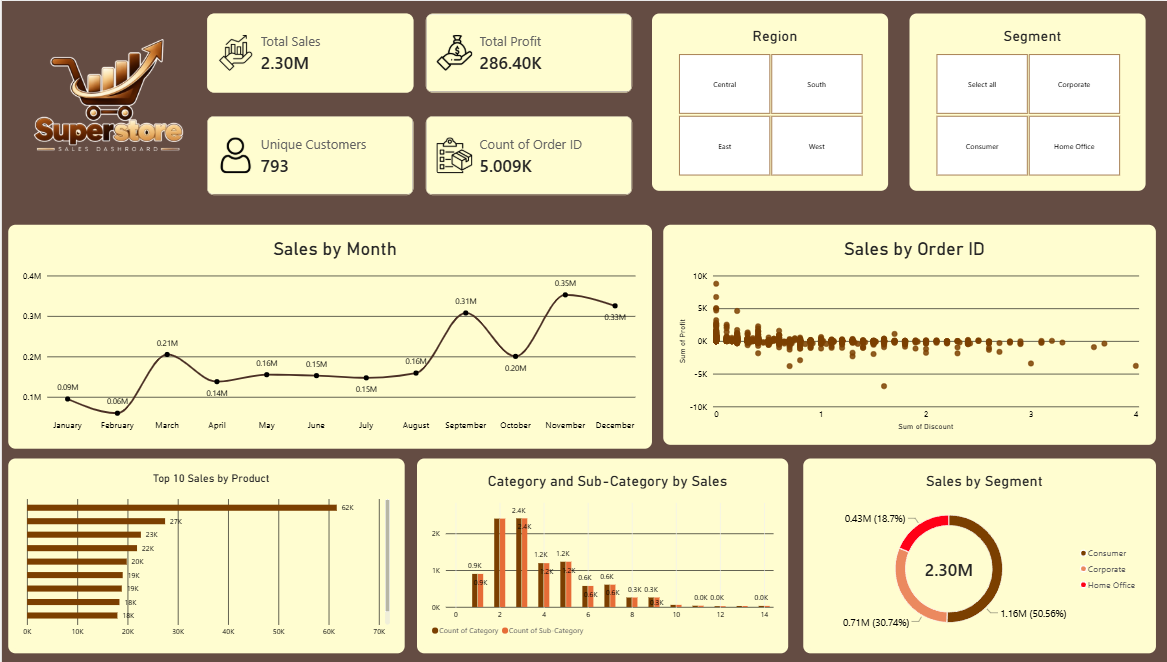

What the dashboard file says about the page in this screenshot:
{"tool":"powerbi","page":{"name":"Page 1","canvas":[1920,1100],"ordinal":0},"visuals":[{"type":"cardVisual","fields":{"Data":["Sum(superstore_sales_clean.Sales)"]},"box":[337.6,20.6,340,130],"z":0},{"type":"cardVisual","fields":{"Data":["Count(superstore_sales_clean.Customer ID)"]},"box":[337.6,189.4,340,130],"z":1},{"type":"cardVisual","fields":{"Data":["Count(superstore_sales_clean.Order ID)"]},"box":[697.8,189.4,340,130],"z":2},{"type":"cardVisual","fields":{"Data":["Sum(superstore_sales_clean.Profit)"]},"box":[697.8,20.6,340,130],"z":3},{"type":"lineChart","title":"Sales by Month","fields":{"Category":["superstore_sales_clean.Order Date.Variation.Date Hierarchy.Month"],"Y":["Sum(superstore_sales_clean.Sales)"]},"box":[10.3,368.4,1060,368.4],"z":5},{"type":"clusteredColumnChart","title":" Category and  Sub-Category by Sales","fields":{"Category":["superstore_sales_clean.Quantity"],"Y":["CountNonNull(superstore_sales_clean.Category)","CountNonNull(superstore_sales_clean.Sub-Category)"]},"box":[683.4,753.3,611.3,321.1],"z":6},{"type":"donutChart","title":"Sales by Segment","fields":{"Category":["superstore_sales_clean.Segment"],"Y":["Sum(superstore_sales_clean.Sales)"]},"box":[1319.4,753.3,580.4,321.1],"z":7},{"type":"scatterChart","title":"Sales by Order ID","fields":{"Category":["superstore_sales_clean.Order ID"],"X":["Sum(superstore_sales_clean.Discount)"],"Y":["Sum(superstore_sales_clean.Profit)"]},"box":[1088.9,368.4,811,362.3],"z":8},{"type":"barChart","title":" Top 10 Sales by Product","fields":{"Category":["superstore_sales_clean.Product Name"],"Y":["Sum(superstore_sales_clean.Sales)"]},"box":[10.3,753.3,652.5,321.1],"z":9},{"type":"slicer","title":"Region","fields":{"Values":["superstore_sales_clean.Region"]},"box":[1070.3,20.6,389,292.3],"z":10},{"type":"slicer","title":"Segment","fields":{"Values":["superstore_sales_clean.Segment"]},"box":[1494.3,20.6,389,292.3],"z":11},{"type":"image","box":[10.3,0,327.3,327.3],"z":12}]}

Visuals, with their boxes in screenshot pixels (x1, y1, x2, y2), scaled from the page's 1920x1100 canvas onto the 1167x662 screenshot:
cardVisual - Sum(superstore_sales_clean.Sales): crop(205, 12, 412, 91)
cardVisual - Count(superstore_sales_clean.Customer ID): crop(205, 114, 412, 192)
cardVisual - Count(superstore_sales_clean.Order ID): crop(424, 114, 631, 192)
cardVisual - Sum(superstore_sales_clean.Profit): crop(424, 12, 631, 91)
"Sales by Month" lineChart: crop(6, 222, 651, 443)
" Category and  Sub-Category by Sales" clusteredColumnChart: crop(415, 453, 787, 647)
"Sales by Segment" donutChart: crop(802, 453, 1155, 647)
"Sales by Order ID" scatterChart: crop(662, 222, 1155, 440)
" Top 10 Sales by Product" barChart: crop(6, 453, 403, 647)
"Region" slicer: crop(651, 12, 887, 188)
"Segment" slicer: crop(908, 12, 1145, 188)
image: crop(6, 0, 205, 197)
